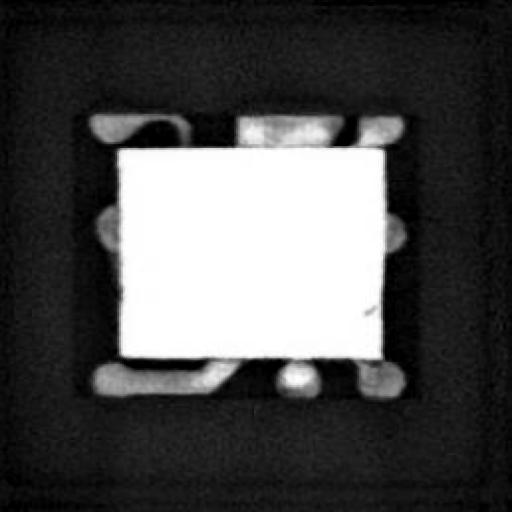DIE_INK: (355, 298, 377, 318)
